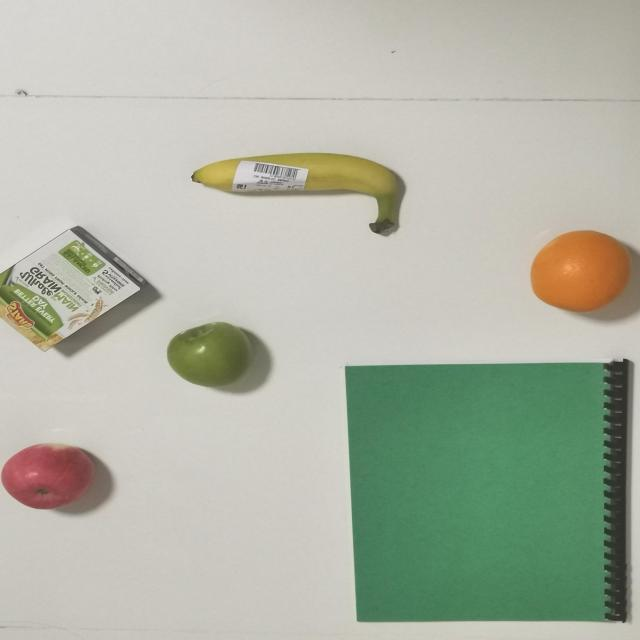apple: (165, 315, 264, 391), (0, 442, 97, 514)
banana: (175, 150, 418, 232)
orange: (528, 228, 636, 312)
